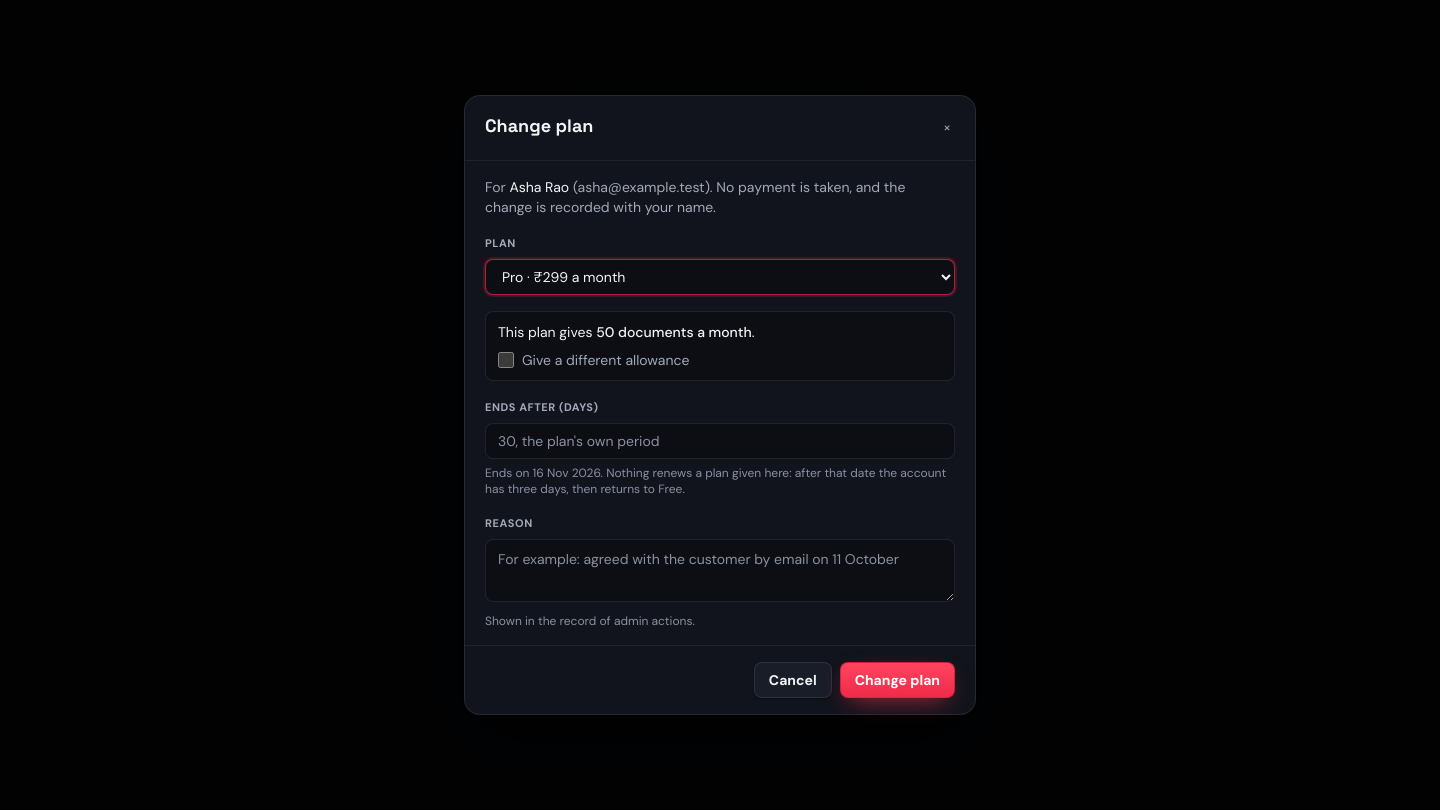
Test: changing a plan › does not save without a reason
What coordinates should you click on to do the following:
click the button "Change plan"
I would click on:
 (897, 680)
Its box is [840, 662, 955, 698].
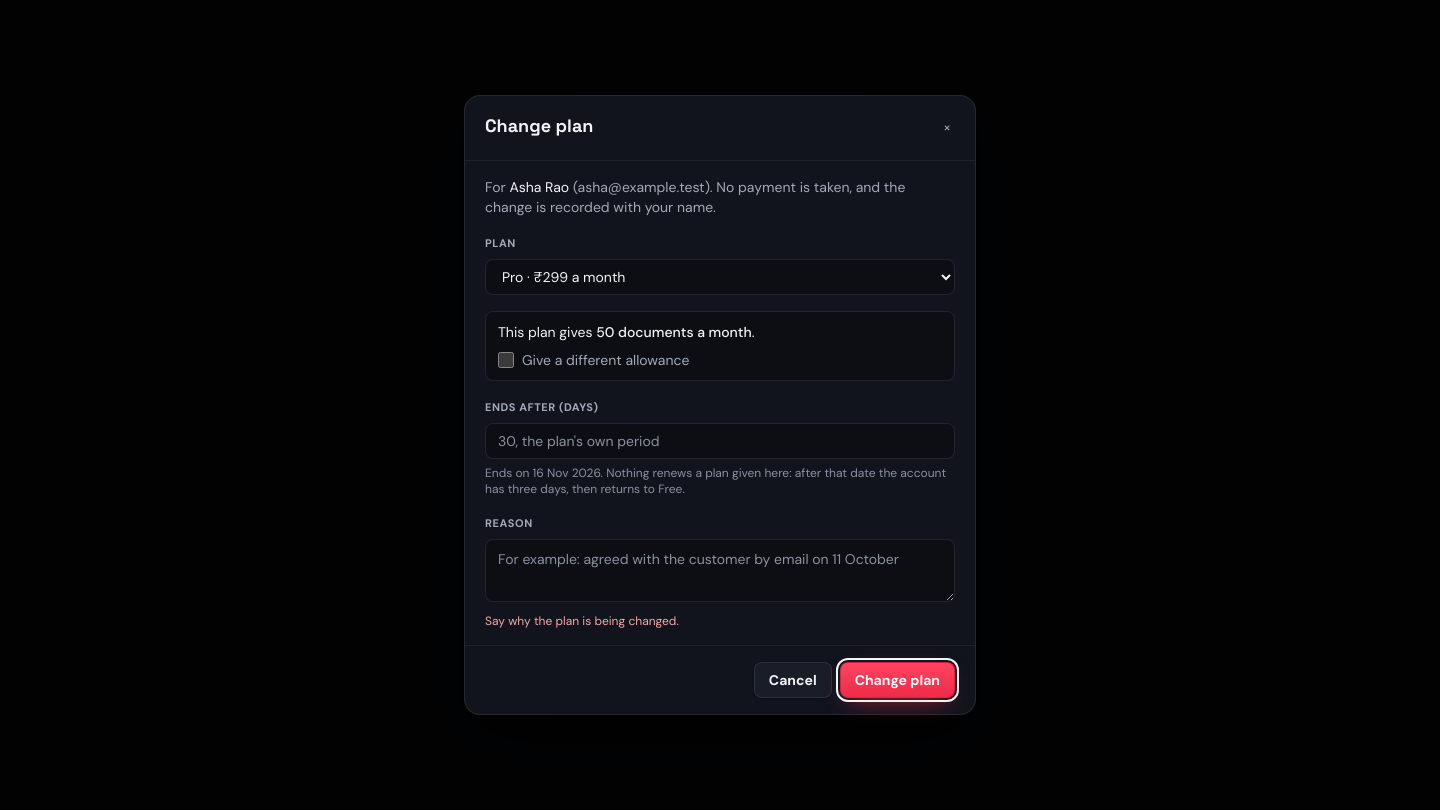
Check: the message reads "Say why the plan is being changed.", box [485, 613, 679, 629]
